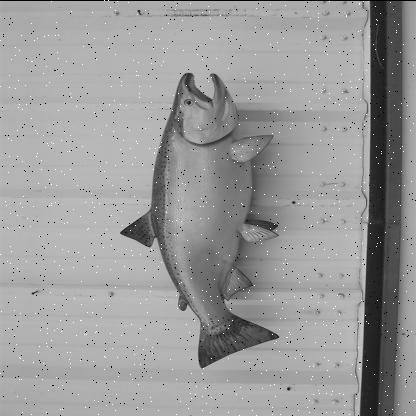fish: (116, 69, 280, 370)
